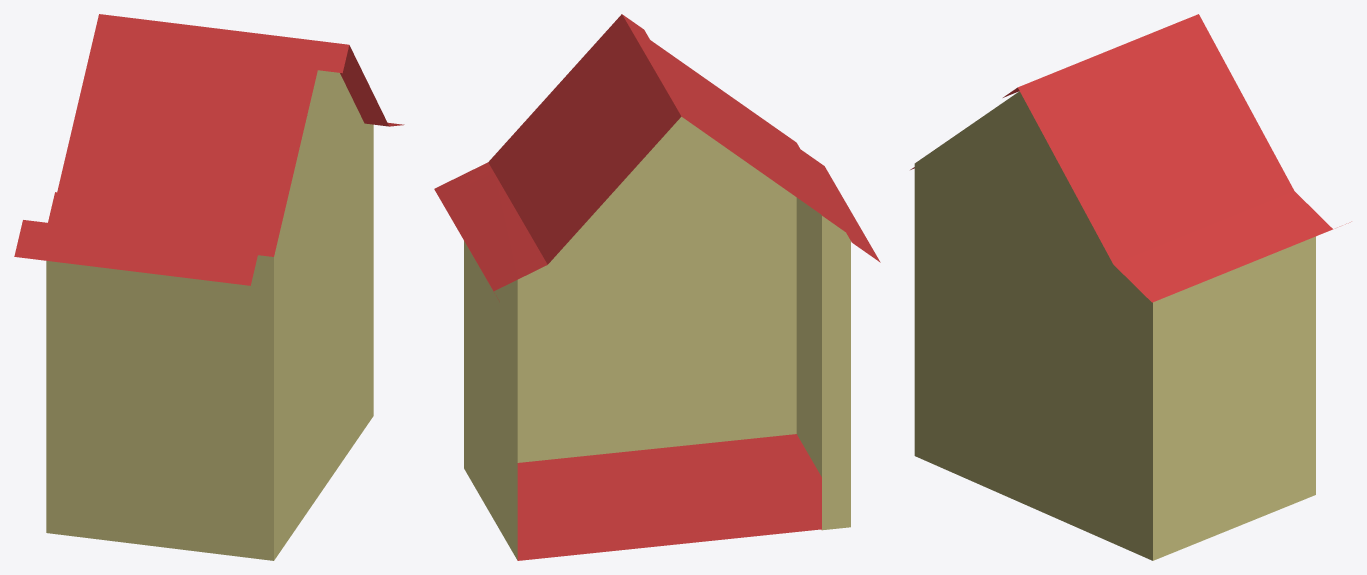
3 views of the same model, side by side, from view 1: azimuth 30°, elevation 25°; view 2: azimuth 150°, elevation 25°; view 3: azimuth 270°, elevation 25° (orthographic). The views are drawn at different scales.
Size of the model in its own units: 14.34 by 13.35 by 14.25.
